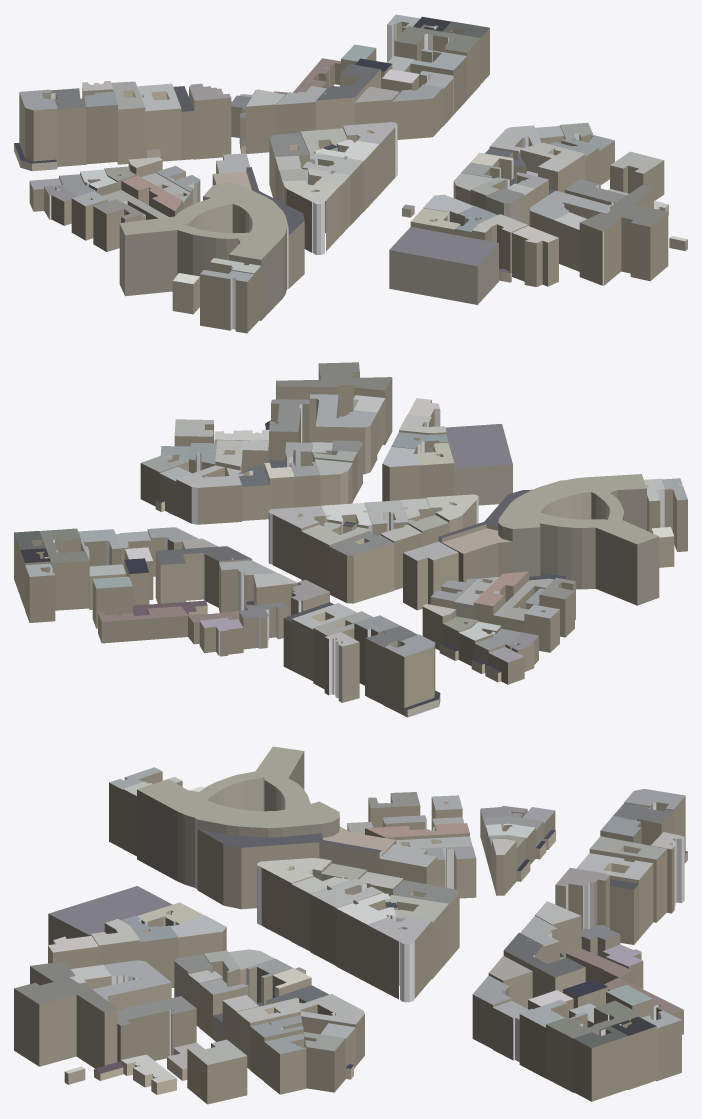
The picture shows the model from 3 angles, top to bottom: view 1: azimuth 30°, elevation 25°; view 2: azimuth 150°, elevation 25°; view 3: azimuth 270°, elevation 25°; orthographic projection. The views are drawn at different scales.
Parts seen in each view (by area): view 1: tuile; view 2: tuile; view 3: tuile.
Boxes of the visible parts, x1=… form: tuile: x1=14, y1=14, x2=687, y2=333; tuile: x1=14, y1=362, x2=687, y2=717; tuile: x1=14, y1=746, x2=687, y2=1104.
Bounding box in the file's own units: 273 × 35.5 × 272.
